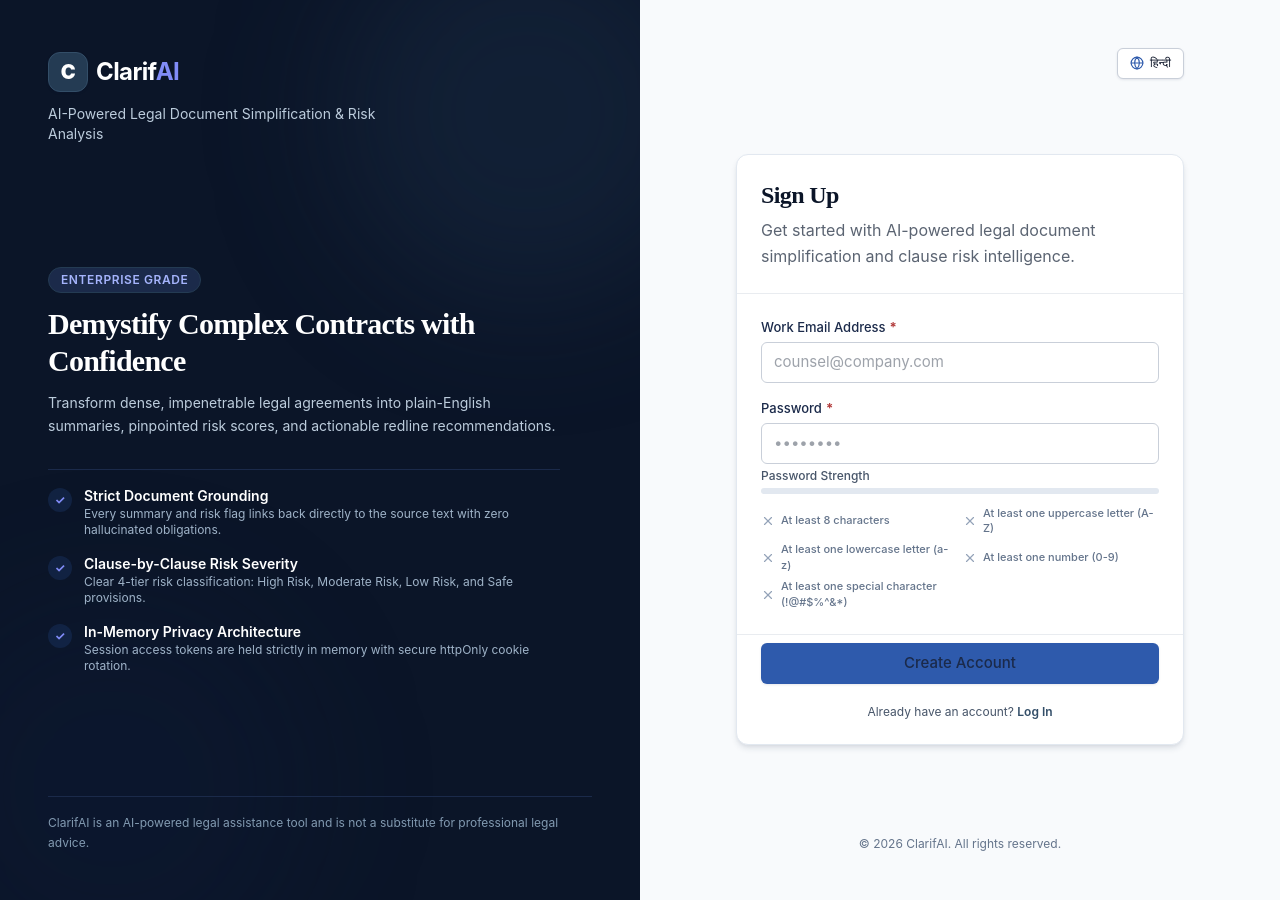
Test: Auth Pages (PRD Section 8.1, Ch. 10/11, Ch. 22.2/22.3, Ch. 31) › SignupPage › validates email format
In the field labelled "Work Email Address *": point(960, 363) [761,342,1159,383], type "invalid-email-format"
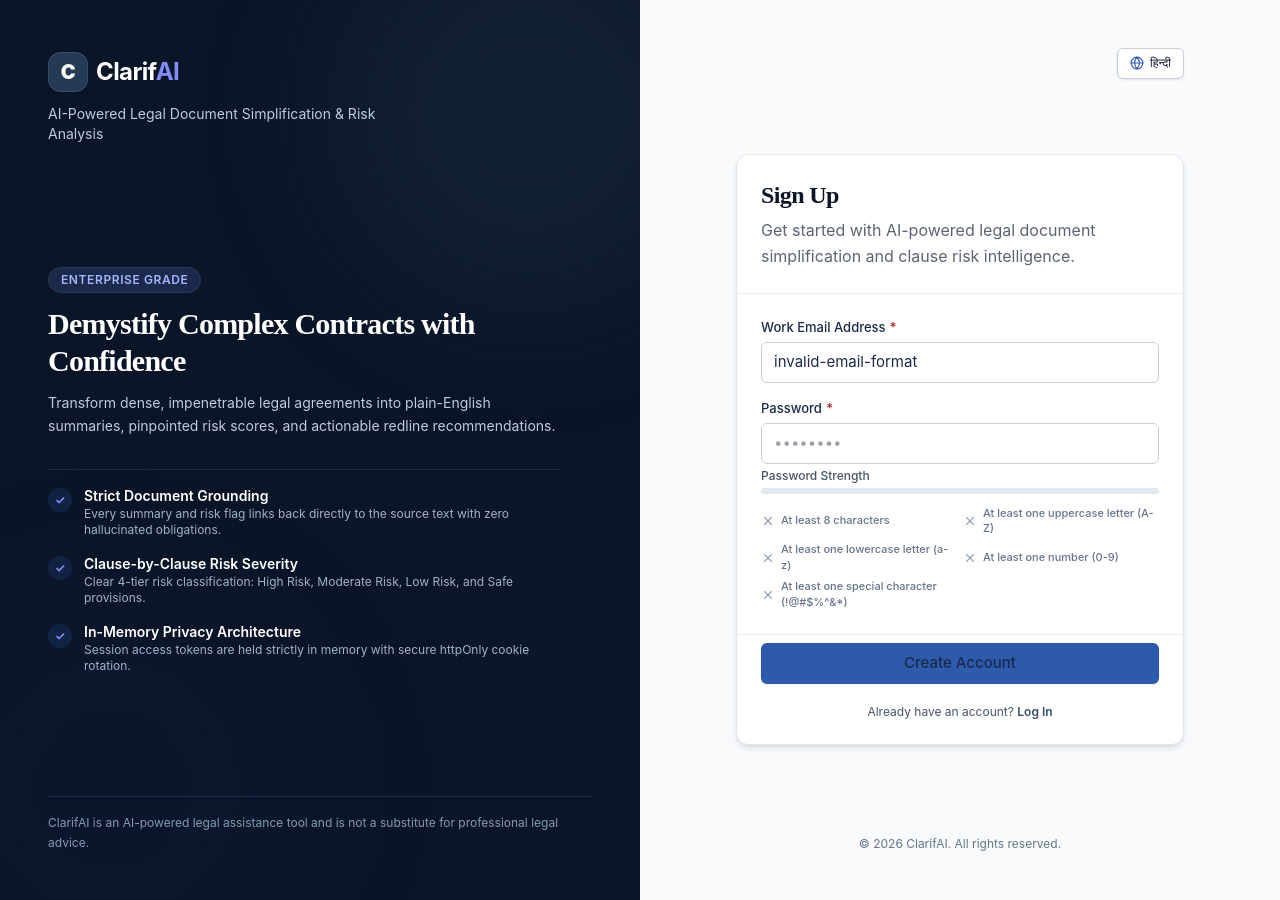
Click the button "Create Account": point(960, 663) [761,643,1159,684]
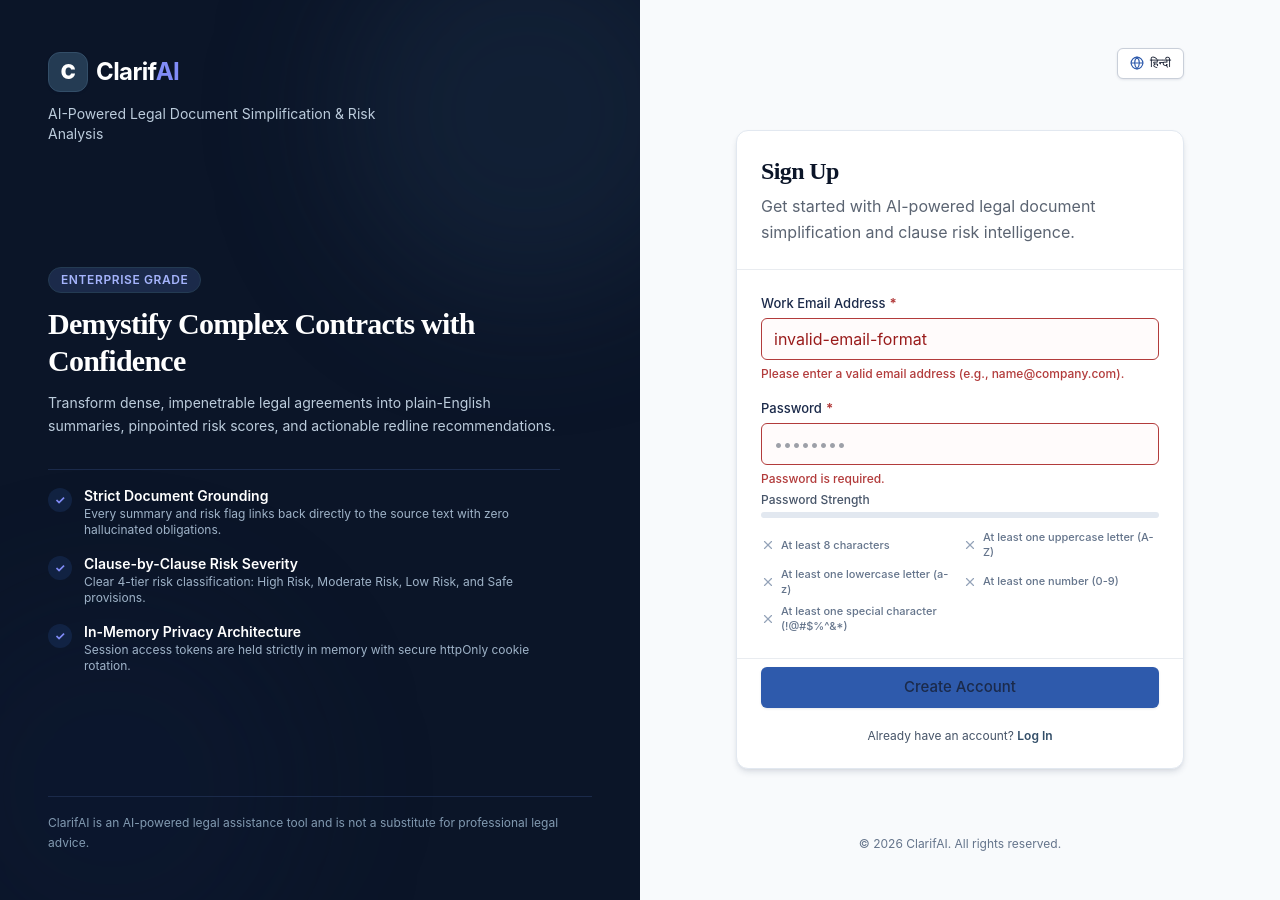
Expected: the text "Please enter a valid email address (e.g., name@company.com)." is shown, [761,366,1159,383]
